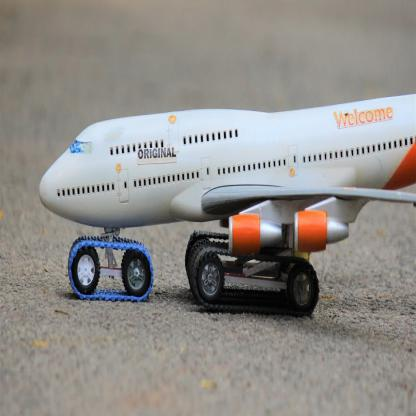CIV_Plane: (37, 90, 414, 317)
